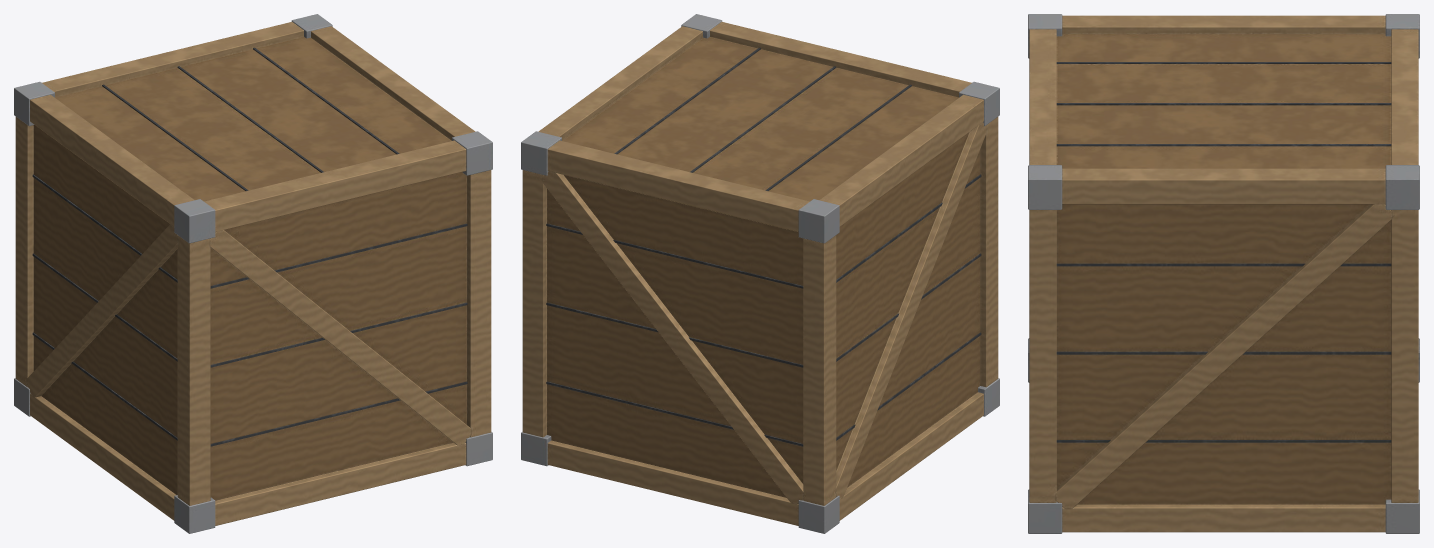
File: crate.fbx
The picture shows the model from 3 angles, left to right: view 1: azimuth 30°, elevation 25°; view 2: azimuth 150°, elevation 25°; view 3: azimuth 270°, elevation 25°; orthographic projection. The views are drawn at different scales.
Visible parts, largest first — view 1: crate; view 2: crate; view 3: crate.
Part boxes in pixels (x1,y1,x2,y2): crate: (14, 14, 492, 533); crate: (521, 14, 999, 533); crate: (1028, 14, 1419, 533).
Size of the model in its own units: 0.906 by 0.906 by 0.906.
